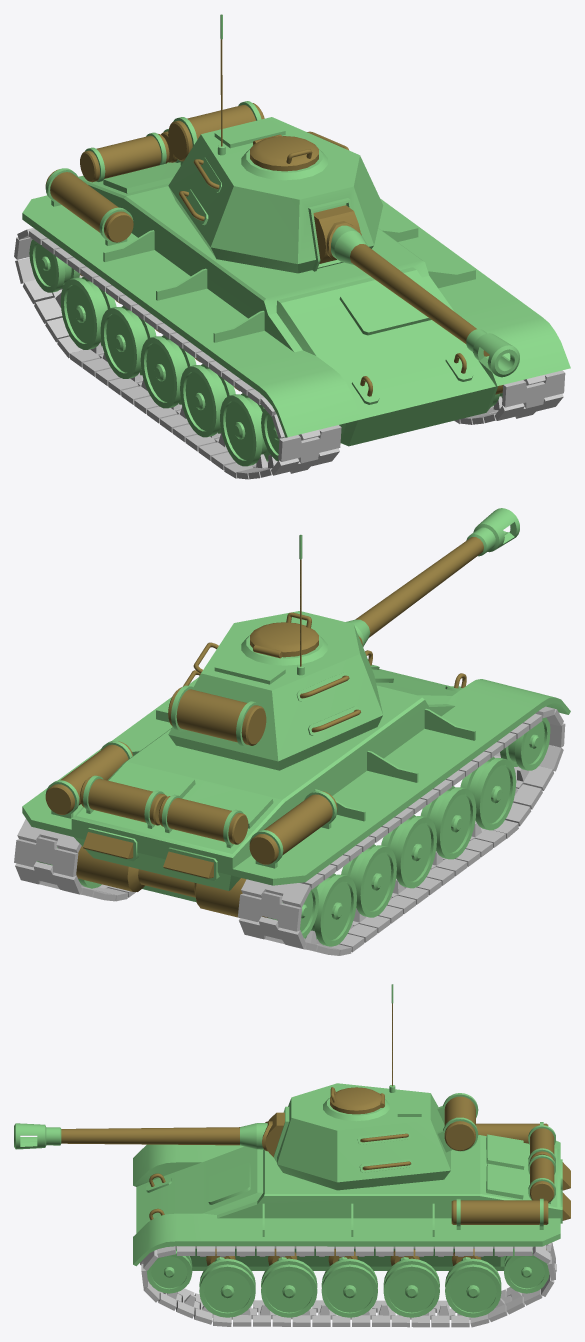
Rendered from tank_sample.fbx.
The picture shows the model from 3 angles, top to bottom: view 1: azimuth 30°, elevation 25°; view 2: azimuth 150°, elevation 25°; view 3: azimuth 270°, elevation 25°; orthographic projection. The views are drawn at different scales.
Visible parts, largest first — view 1: tank_sample; view 2: tank_sample; view 3: tank_sample.
Part boxes in pixels (x1=…): tank_sample: x1=14, y1=14, x2=570, y2=479; tank_sample: x1=14, y1=508, x2=570, y2=955; tank_sample: x1=14, y1=984, x2=570, y2=1327.
Size of the model in its own units: 4.05 by 4.86 by 8.94.
